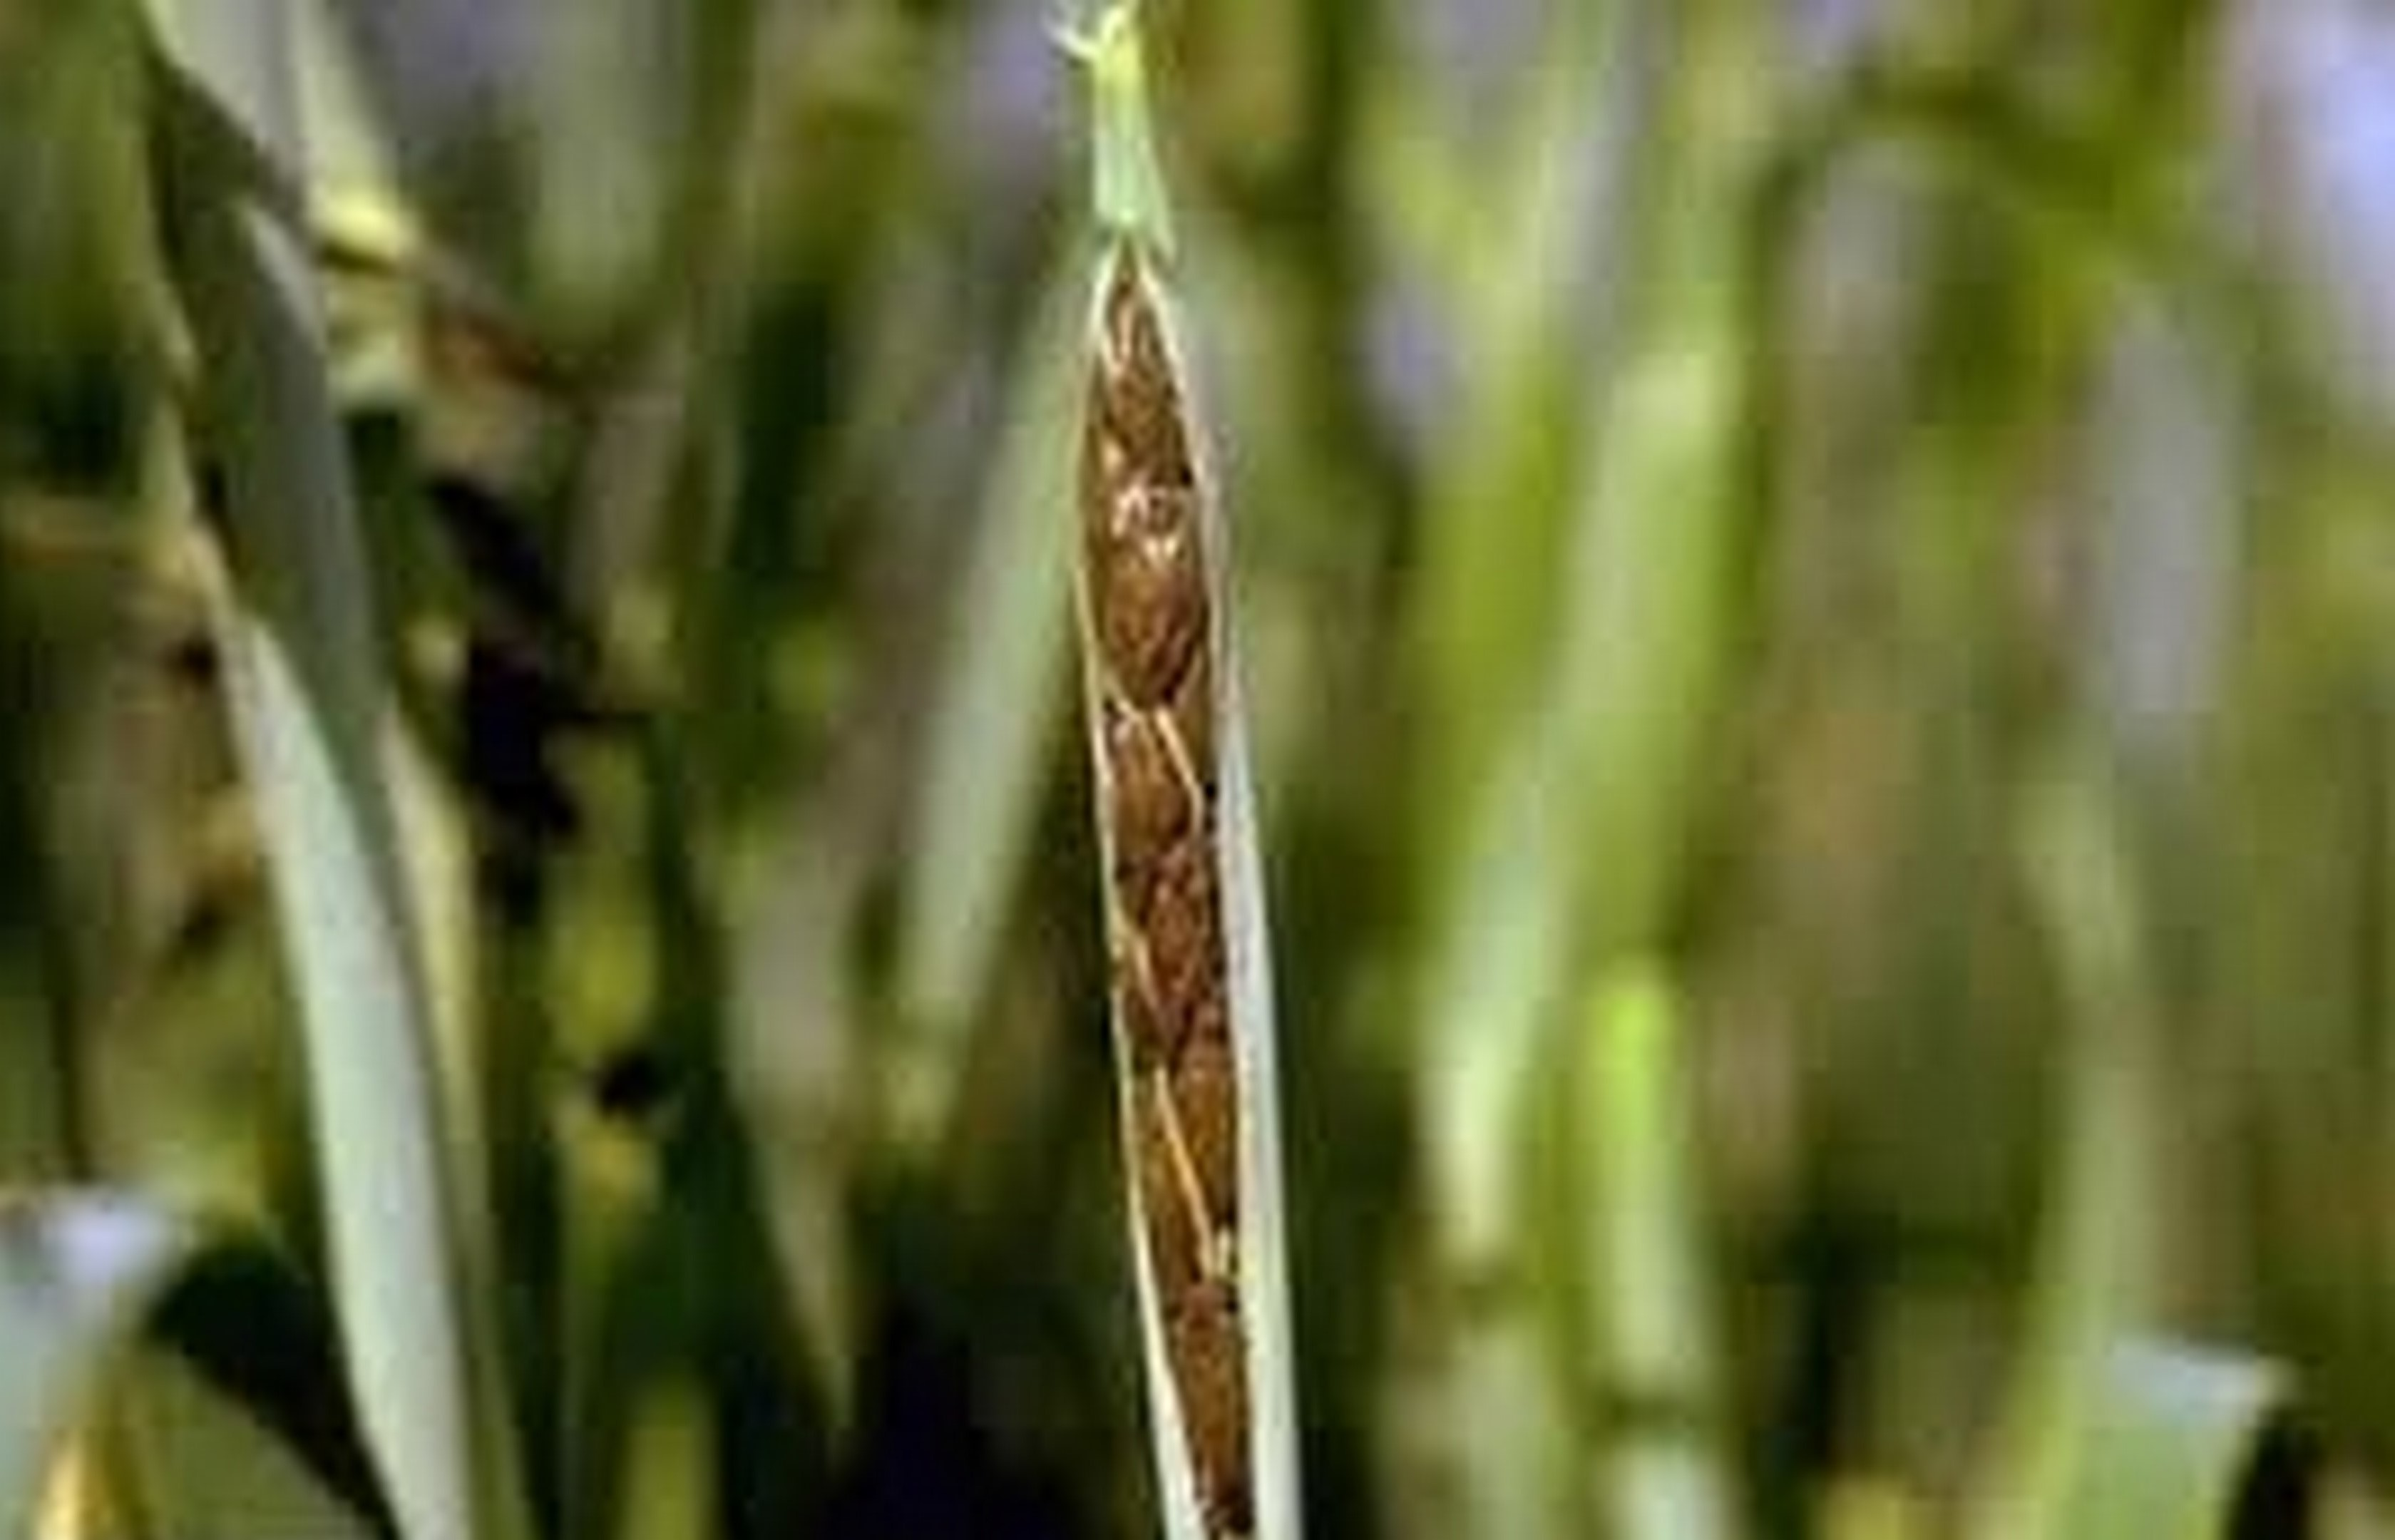Wheat Loose Smut: (1049, 367, 1309, 1407)
